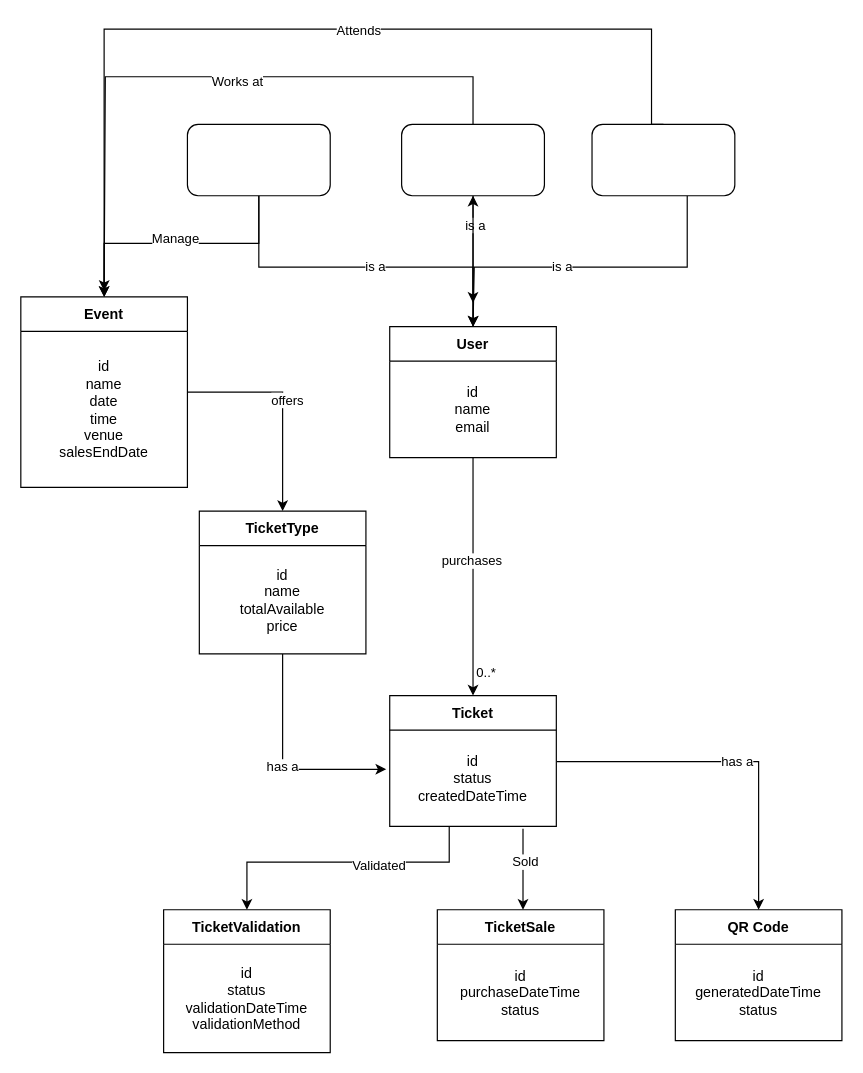
Some shapes in this 863 by 1073 pixel diagram are drawn without their labels. The centre of each missing label's shape, as x and y in pixels:
"Attendee" goes at point 663,159.
"Organizer" goes at point 258,159.
"Staff" goes at point 472,159.
